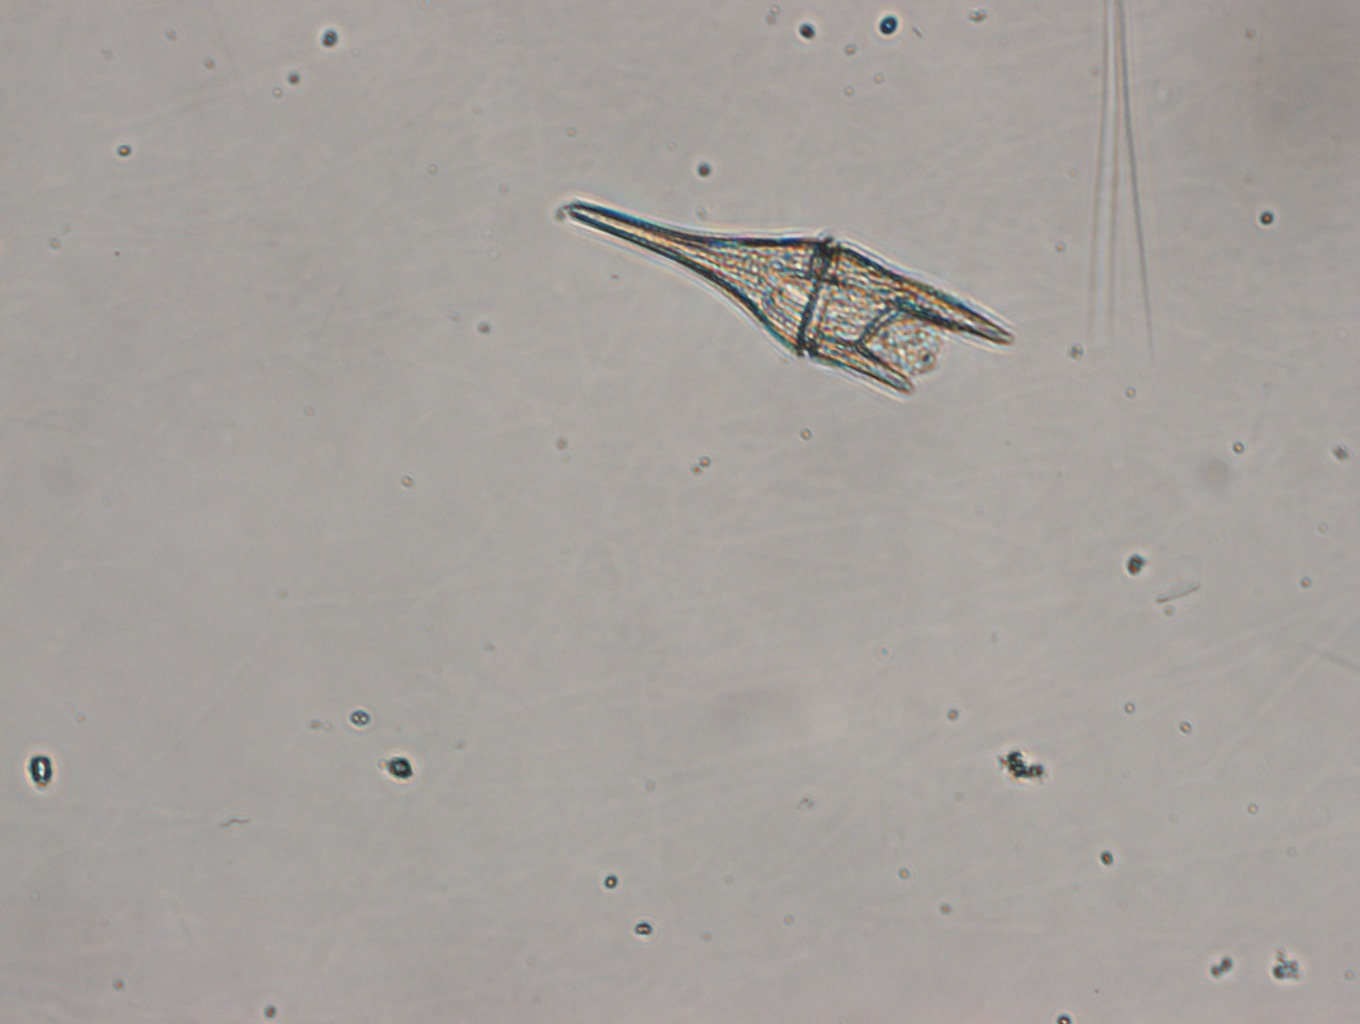ceratium furca: (561, 193, 1017, 404)
